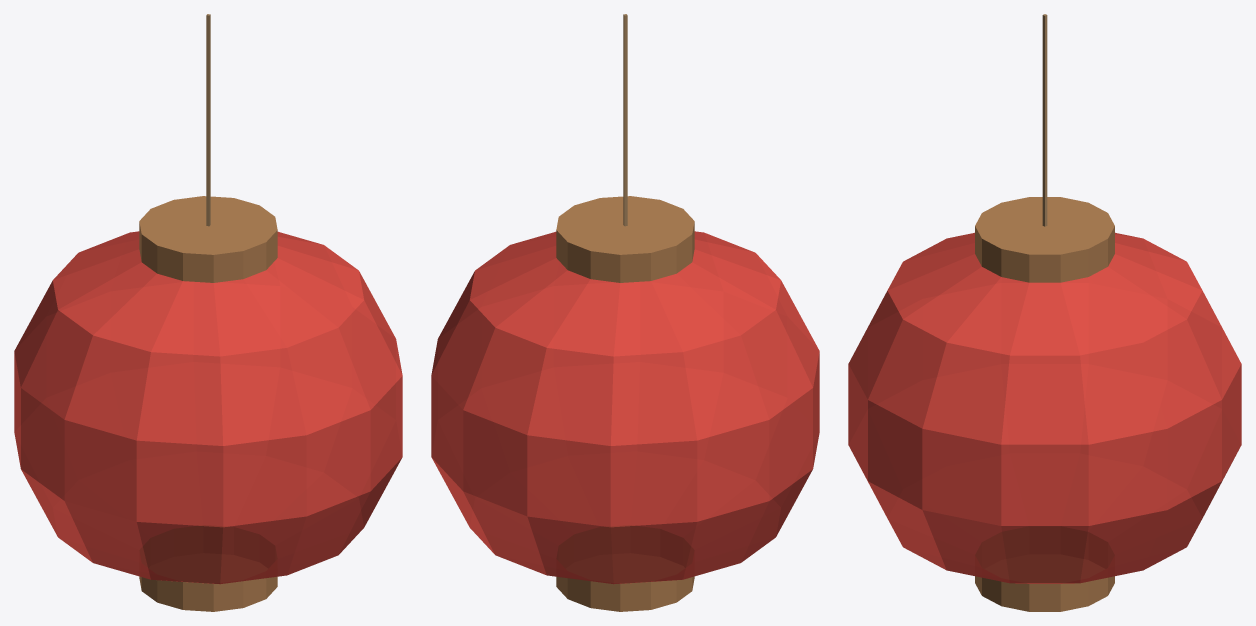
The model's file is Lentern_0607.fbx.
The picture shows the model from 3 angles, left to right: view 1: azimuth 30°, elevation 25°; view 2: azimuth 150°, elevation 25°; view 3: azimuth 270°, elevation 25°; orthographic projection.
Visible parts, largest first — view 1: Lantern, Lantern.001, Lantern.002; view 2: Lantern, Lantern.001, Lantern.002; view 3: Lantern, Lantern.001, Lantern.002.
Boxes of the visible parts, x1,y1,x2,y2 form: Lantern: (14, 231, 402, 584); Lantern.001: (139, 196, 277, 611); Lantern.002: (206, 14, 210, 226); Lantern: (431, 231, 819, 584); Lantern.001: (556, 196, 694, 611); Lantern.002: (623, 14, 627, 226); Lantern: (848, 232, 1241, 583); Lantern.001: (975, 197, 1114, 611); Lantern.002: (1042, 14, 1047, 226).
Size of the model in its own units: 395 by 647 by 406.
